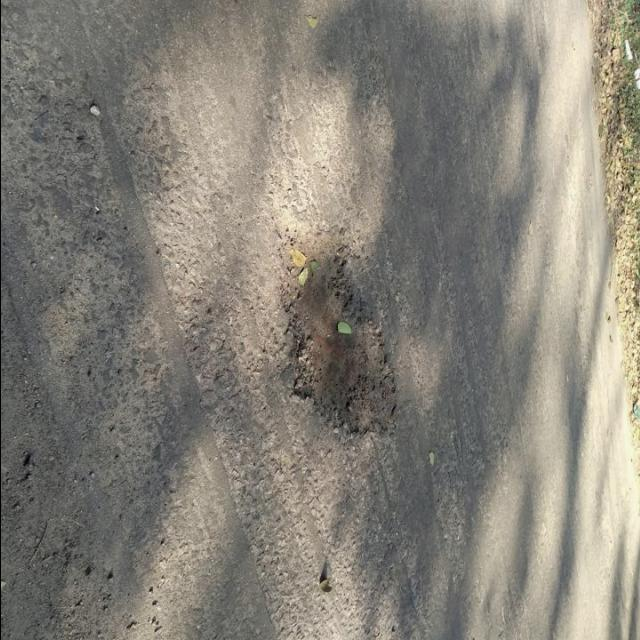pothole: (264, 235, 410, 443)
